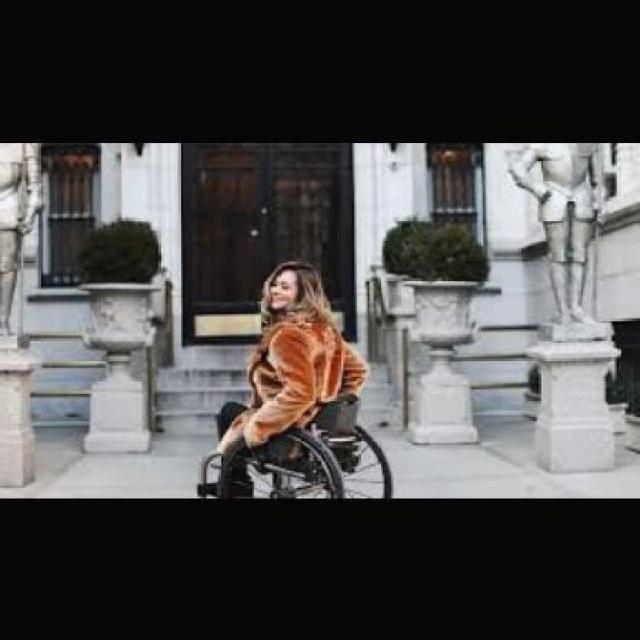wheelchairs: (194, 394, 399, 501)
